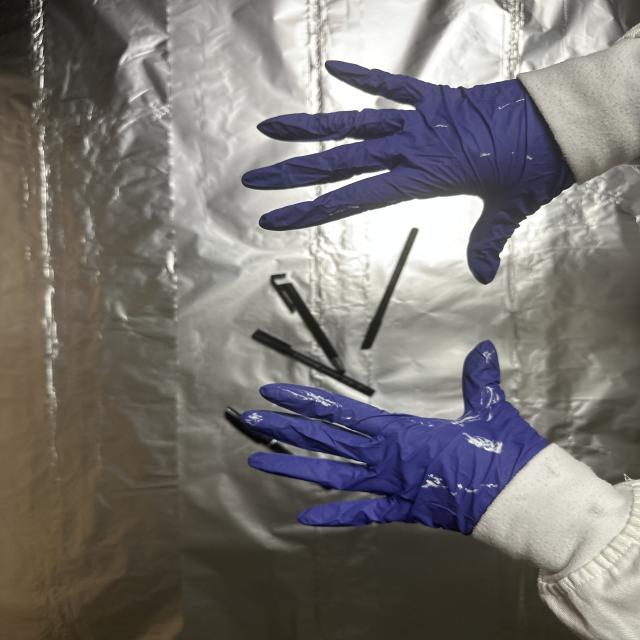gloves_contaminated: (242, 62, 574, 283), (242, 341, 548, 534)
